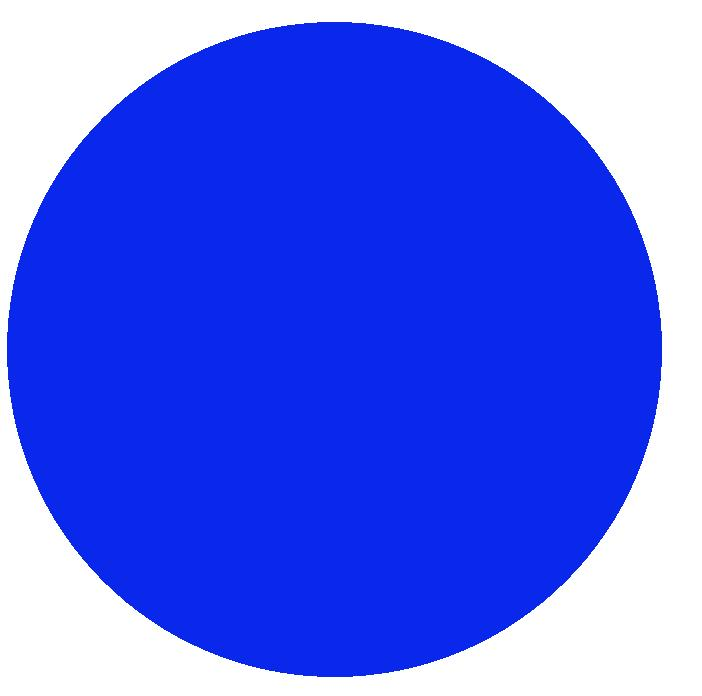blue_circle: (0, 13, 670, 691)
